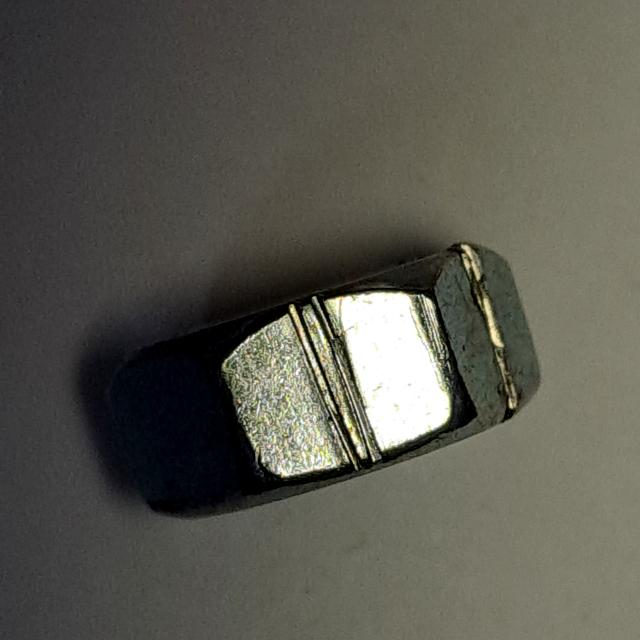Side_Scratches: (94, 228, 556, 531)
